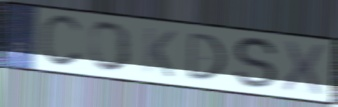C: (38, 13, 85, 70)
D: (185, 31, 228, 82)
K: (141, 25, 178, 80)
O: (89, 20, 133, 75)
S: (232, 35, 280, 92)
X: (279, 38, 327, 97)
